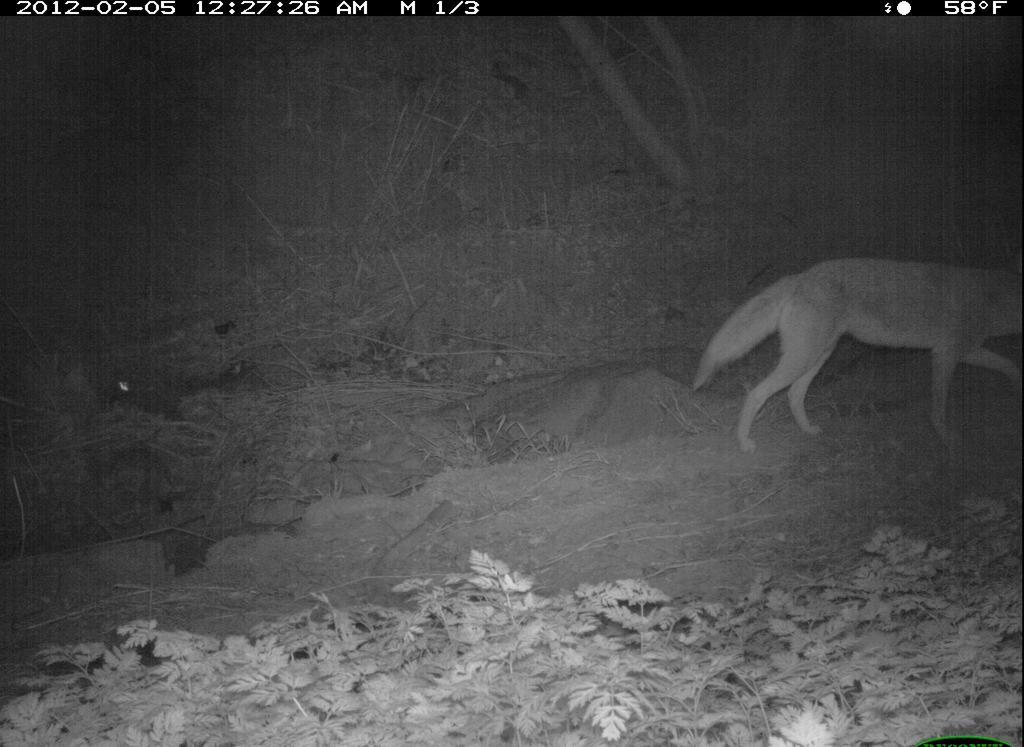coyote: (687, 253, 1021, 449)
